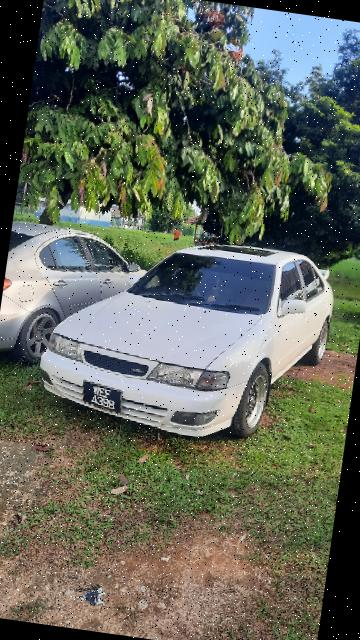License_Plate: (81, 375, 133, 423)
car: (33, 217, 345, 454), (1, 214, 160, 376)
